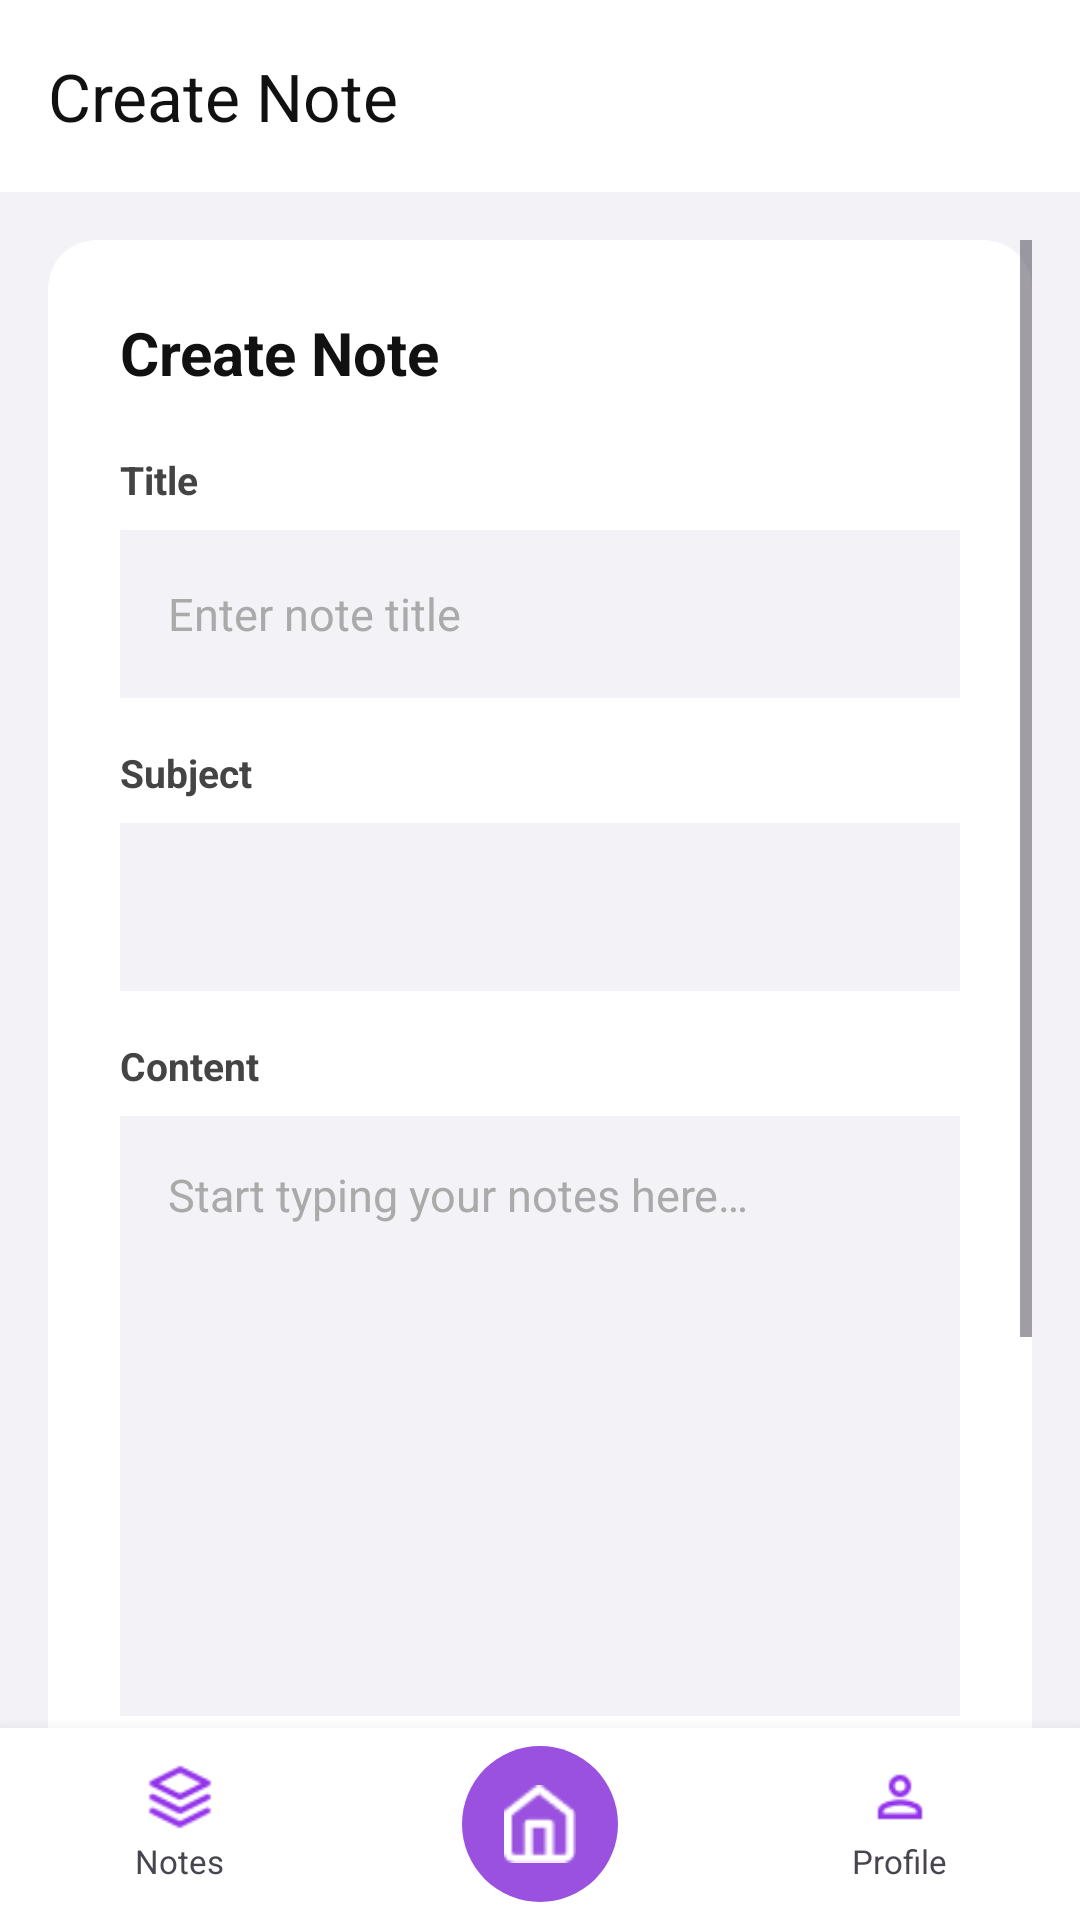

Icon bounding boxes for this 1080 × 1920 phone screenshot, format (x1, y1, x2, y2):
Dashboard: (504, 1785, 576, 1863)
